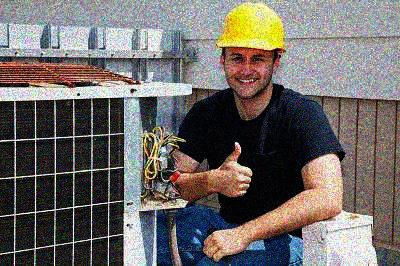helmet: (214, 1, 287, 99)
